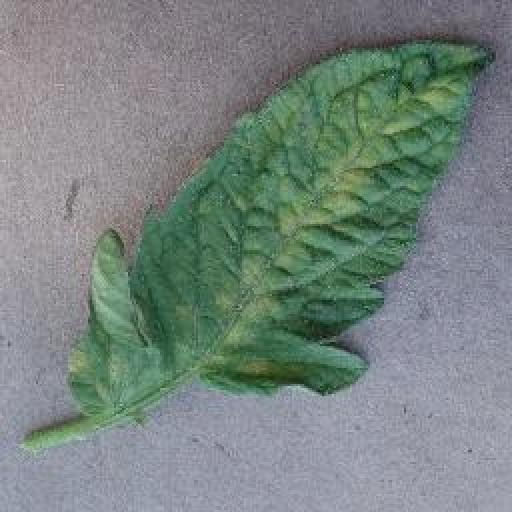disease_tomato: (66, 38, 496, 412)
